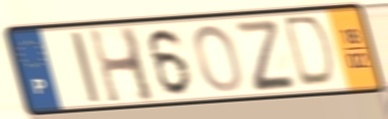6: (146, 26, 195, 97)
D: (283, 13, 339, 91)
H: (85, 24, 160, 107)
I: (67, 29, 103, 106)
O: (191, 22, 245, 95)
Z: (230, 18, 299, 94)
